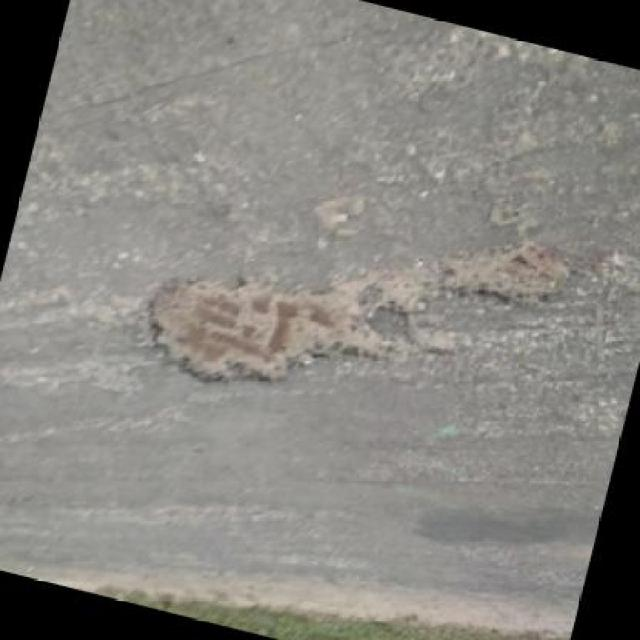pothole: (124, 206, 433, 437), (428, 218, 582, 327)
